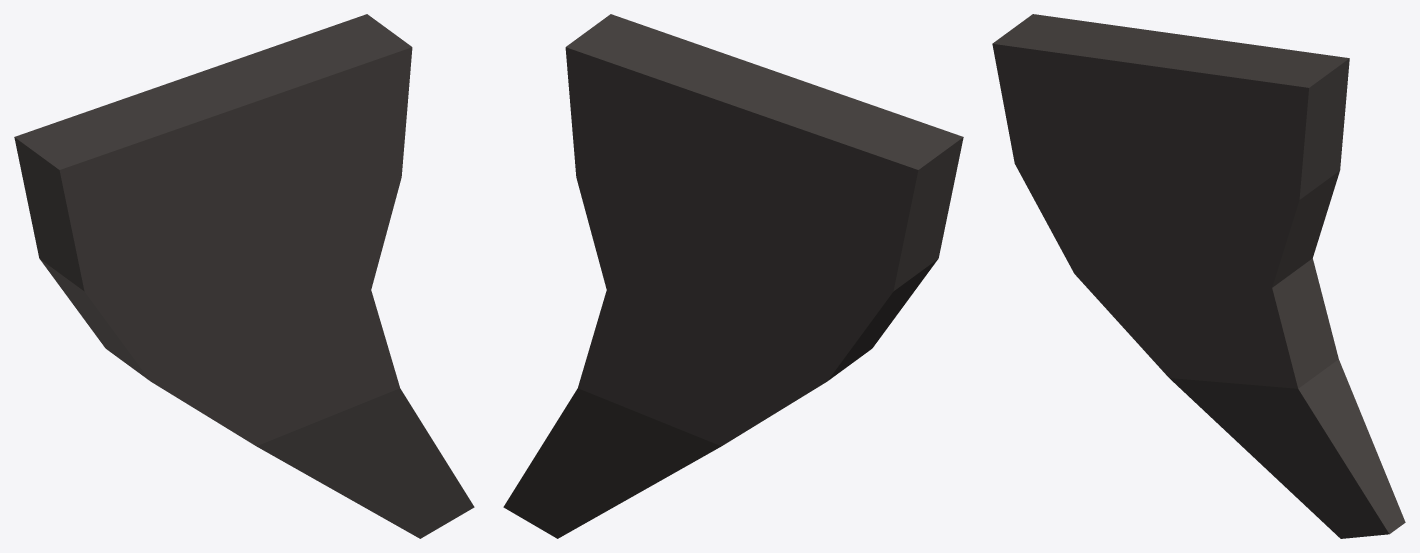
The model's file is Pistol4_03_3.fbx.
3 renders of one model, left to right at view 1: azimuth 30°, elevation 25°; view 2: azimuth 150°, elevation 25°; view 3: azimuth 330°, elevation 25°, orthographic. The views are drawn at different scales.
Parts seen in each view (by area): view 1: Pistol4_03_3; view 2: Pistol4_03_3; view 3: Pistol4_03_3.
Boxes of the visible parts, x1,y1,x2,y2 form: Pistol4_03_3: (14,14,474,538); Pistol4_03_3: (503,14,963,538); Pistol4_03_3: (992,14,1405,538).
Size of the model in its own units: 0.0282 by 0.0319 by 0.00516.
